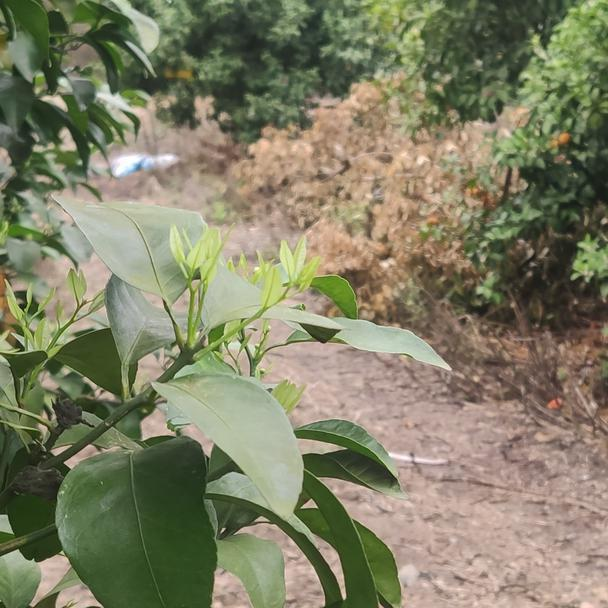shoot: (246, 244, 324, 324), (48, 274, 112, 358), (171, 225, 234, 303), (4, 276, 53, 353)
